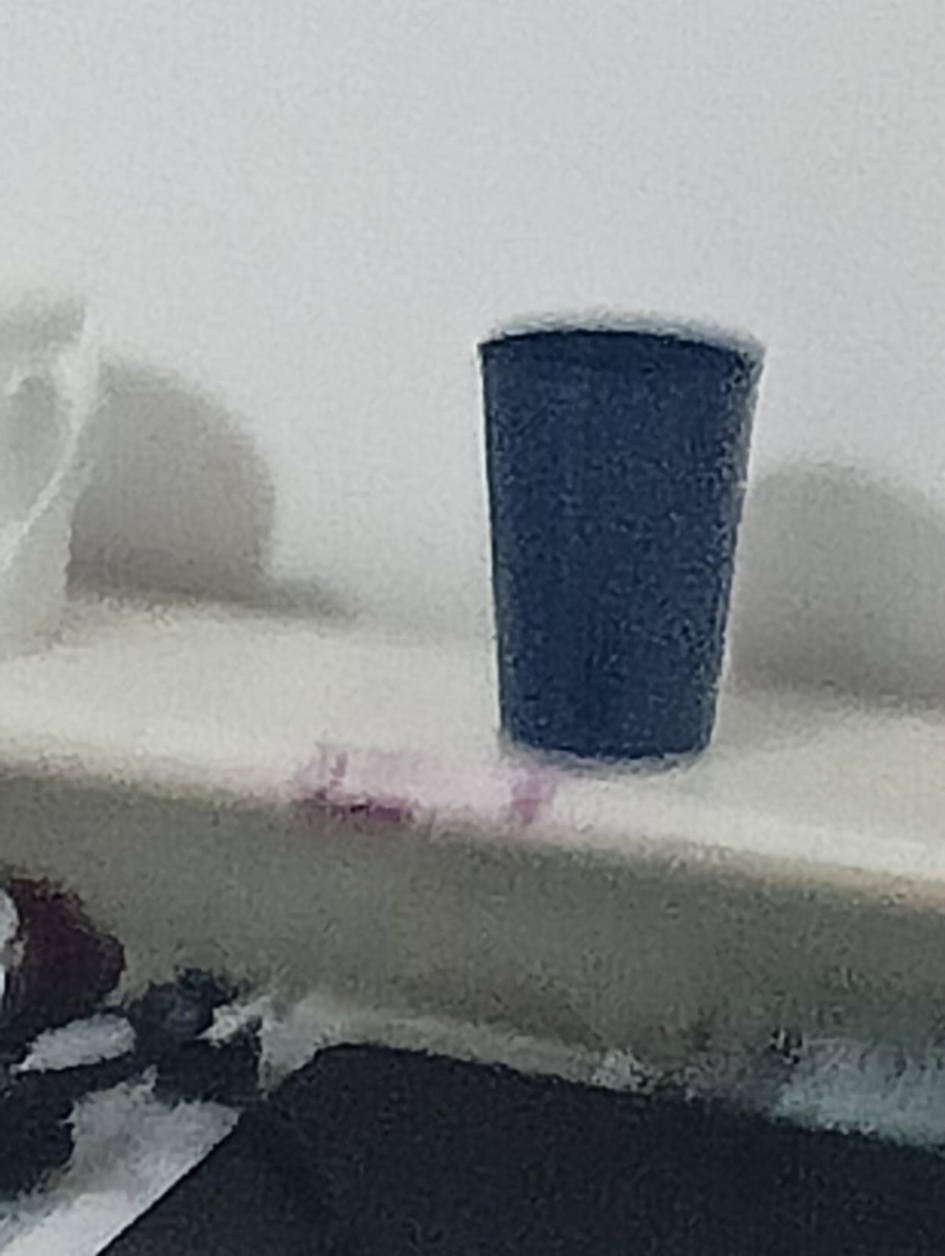cup: (480, 324, 762, 759), (0, 294, 97, 658)
